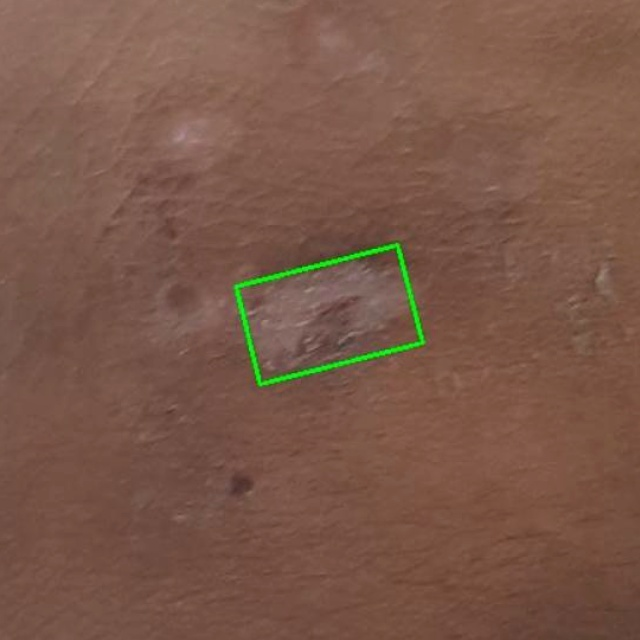Eczema: (236, 246, 422, 384)
